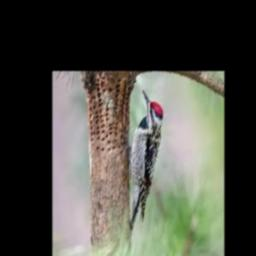Woodpecker: (128, 89, 163, 233)
